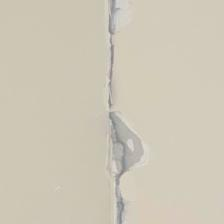Medium: (83, 3, 167, 218)
